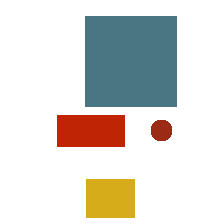circle: (151, 120, 171, 140)
rectangle: (85, 16, 176, 106), (57, 115, 124, 146), (86, 179, 134, 217)
